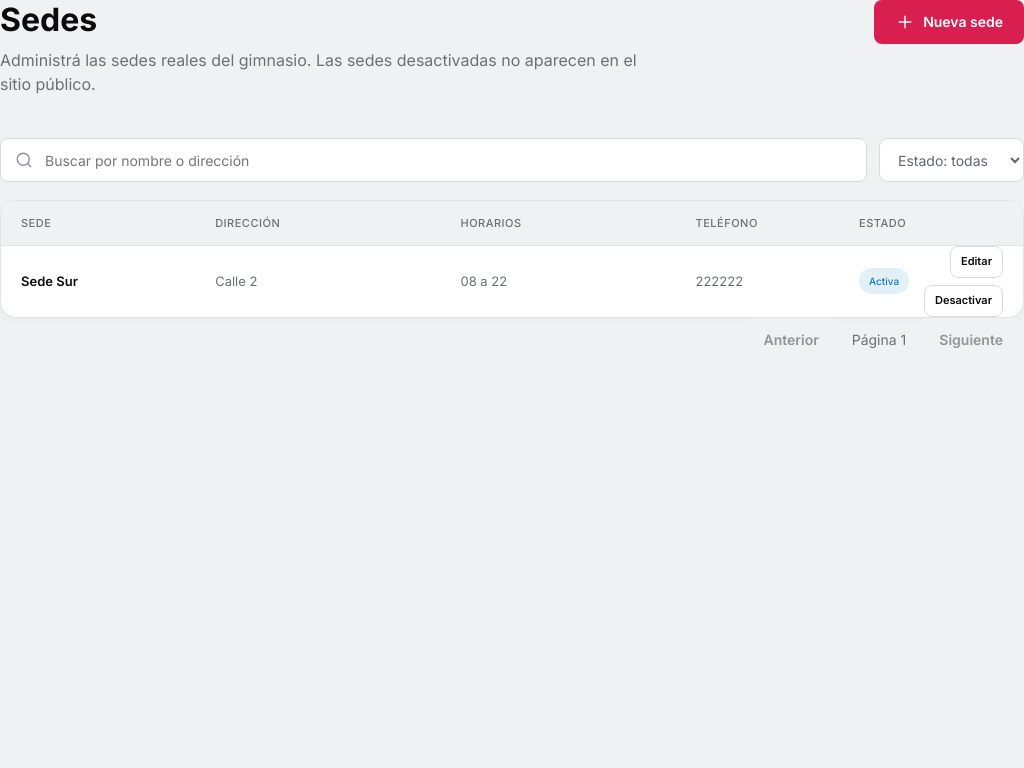
Scenario: administración de sedes › conserva los datos de imagen al abrir el editor
Check: the text "Sede Sur" is shown, box [1,245,195,316]
Click the button "Editar" at (976, 262), box [950,246,1003,278]
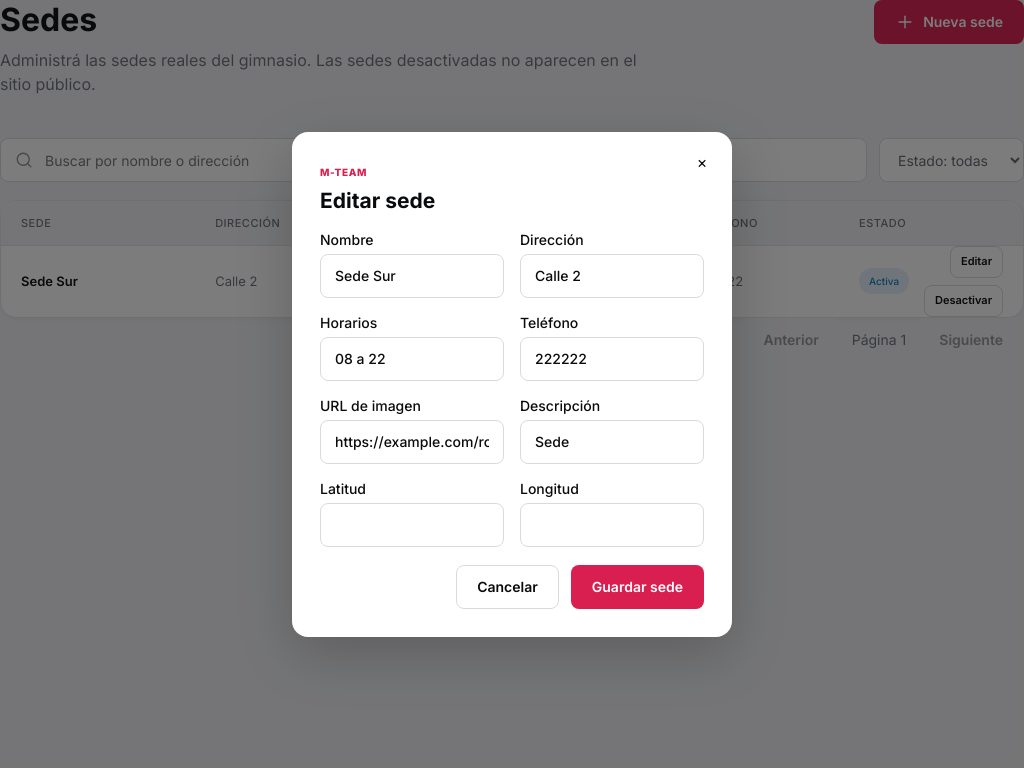
Check: the dialog "Editar sede" is shown, box [292,132,732,636]
Check: the field showing "https://example.com/rota.jpg" is shown, box [320,420,504,464]
